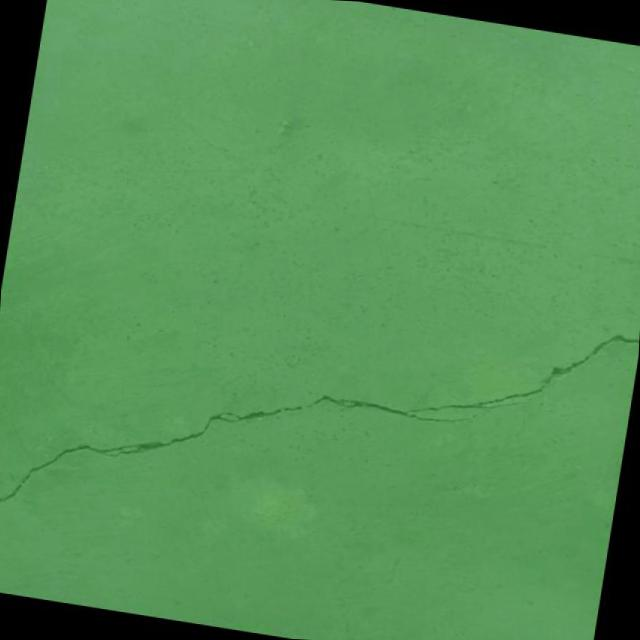crack: (0, 237, 640, 604), (0, 391, 39, 459), (372, 558, 400, 595), (339, 602, 354, 634), (413, 500, 433, 522), (343, 635, 358, 640)
